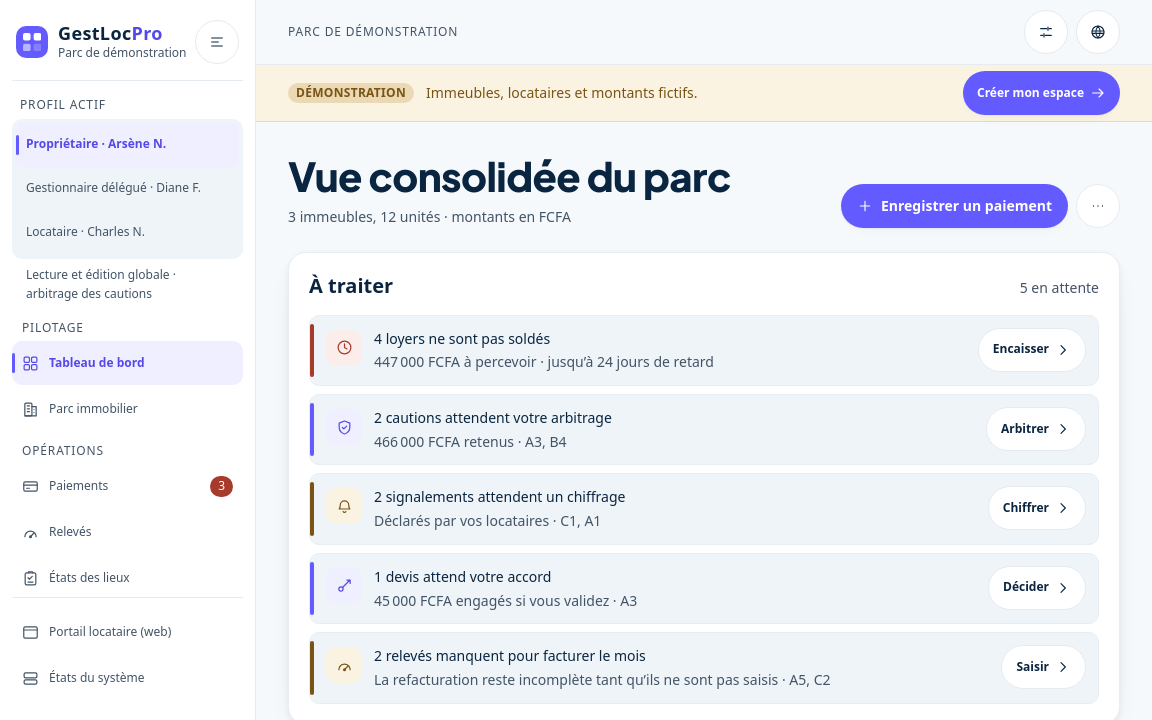
it: le choix d’une devise › dit qu’il ne peut pas, plutôt que de ne rien faire
Click the button named "Réglages : langue, devise et thème" at {"x": 1046, "y": 32}, box [1024,10,1068,54]
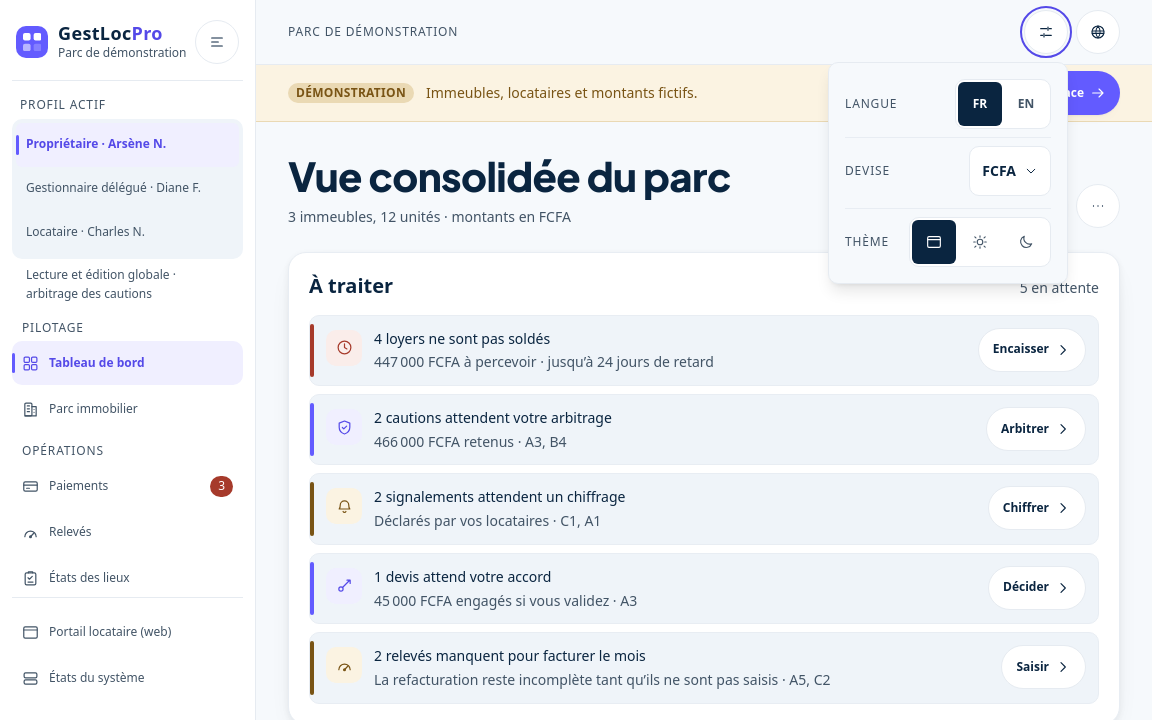
Click the button "FCFA" at {"x": 1010, "y": 171}, box [969,146,1051,196]
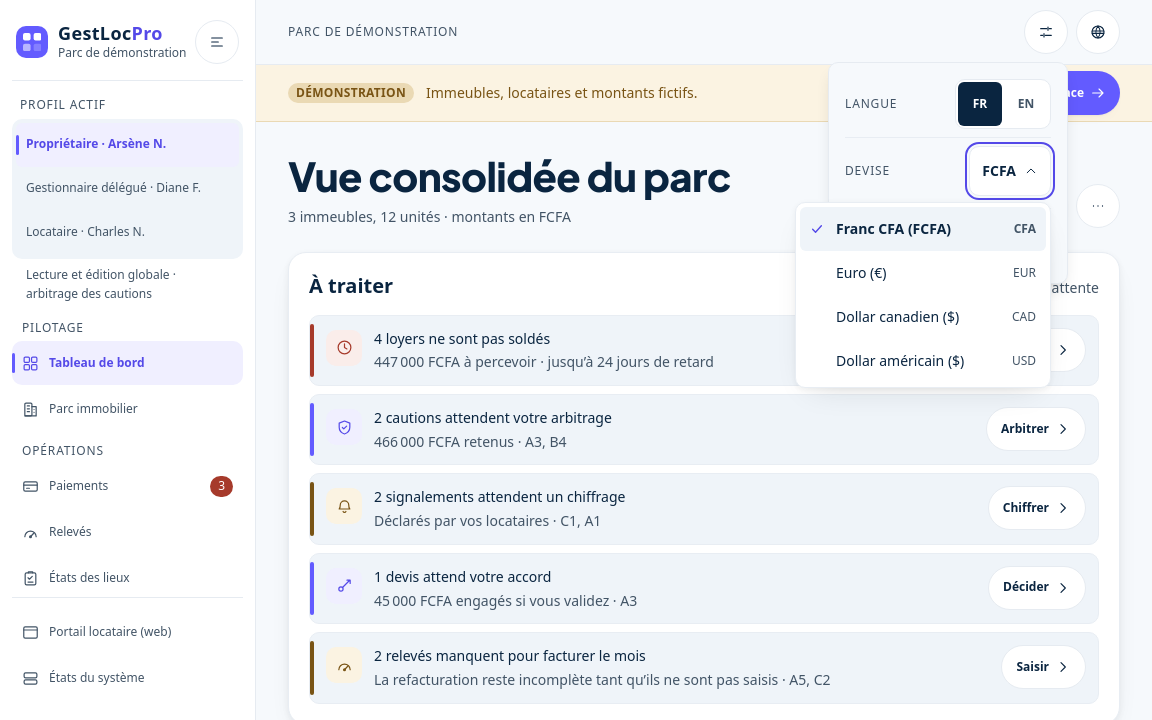
Click the option "Dollar canadien ($) CAD" at {"x": 923, "y": 317}, box [800,295,1046,339]
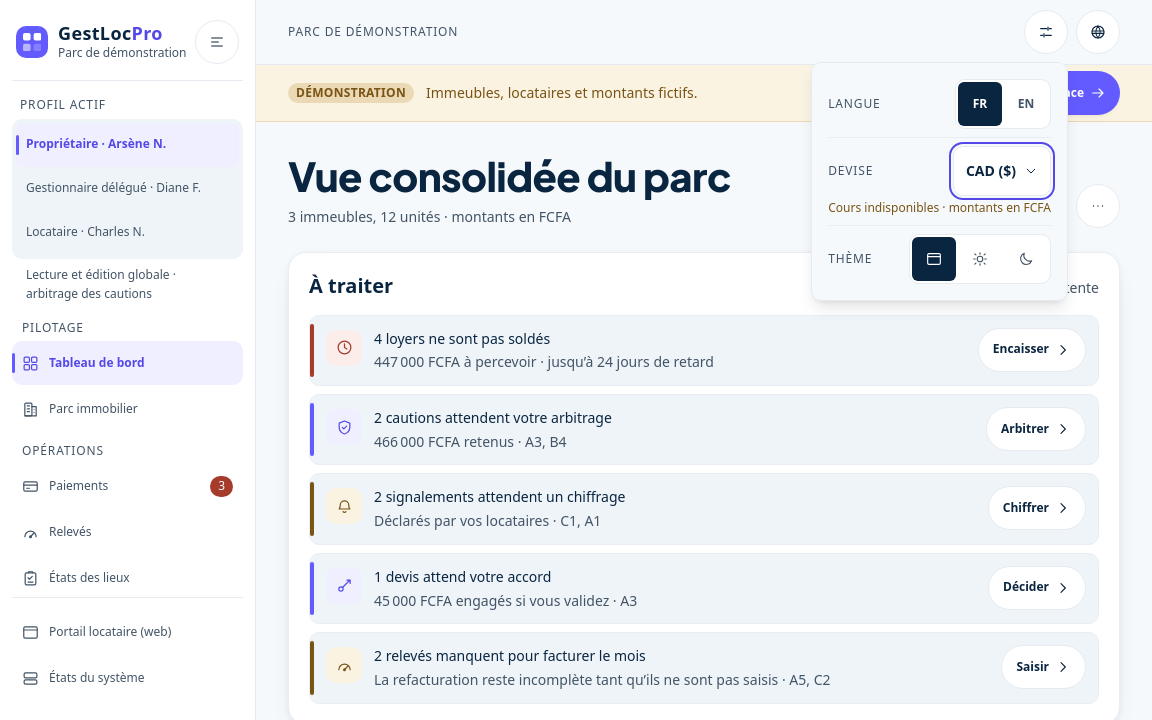
Expected: the element that starts with "Vue consolidée du parc" shows "FCFA", [288,207,571,226]
Now the text "Cours indisponibles · montants en FCFA" is shown, box [828,200,1051,217]
